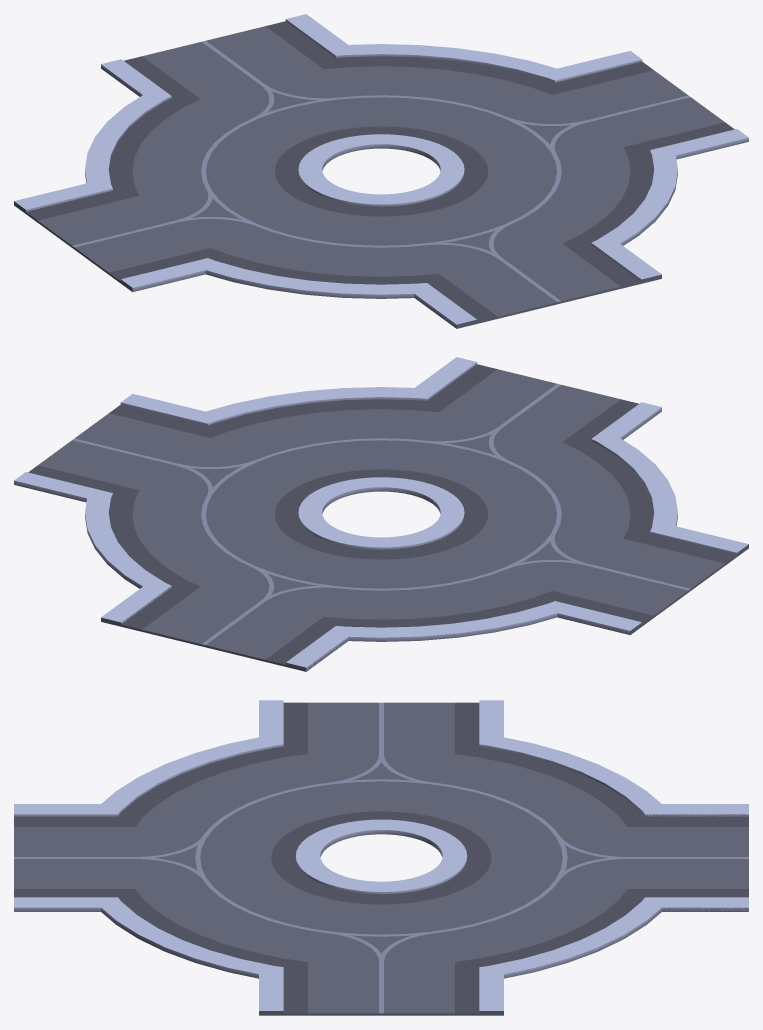
The picture shows the model from 3 angles, top to bottom: view 1: azimuth 30°, elevation 25°; view 2: azimuth 150°, elevation 25°; view 3: azimuth 270°, elevation 25°; orthographic projection. The views are drawn at different scales.
Visible parts, largest first — view 1: road-roundabout; view 2: road-roundabout; view 3: road-roundabout.
Boxes of the visible parts, x1,y1,x2,y2 form: road-roundabout: [14, 14, 748, 328]; road-roundabout: [14, 357, 748, 671]; road-roundabout: [14, 700, 748, 1015].
Bounding box in the file's own units: 32.04 × 0.2136 × 32.04.
1 material, 1 textured.
